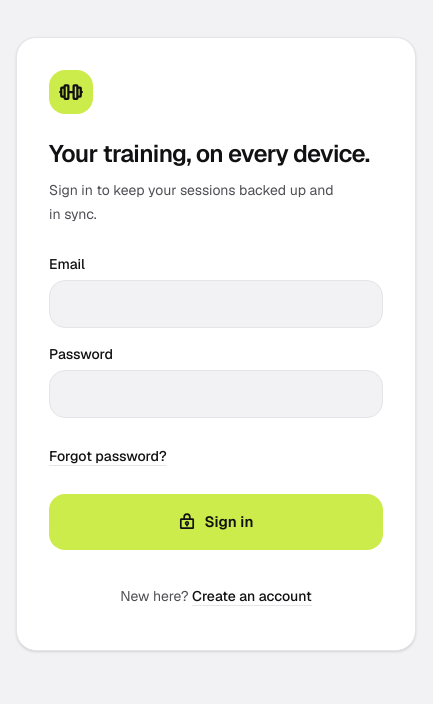
Test case: AuthScreen signup confirmations › prevents two submissions while the first request is still running
This screenshot has width=433, height=704.
Click the button "Create an account" at (252, 596), box [192,574,312,618]
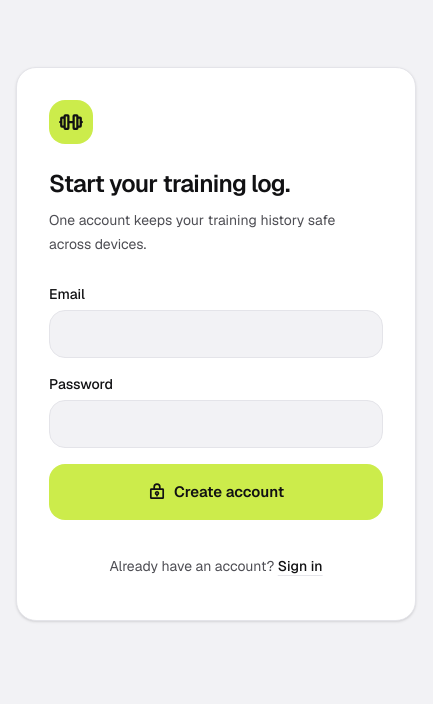
Type "athlete@example.com" into the field labelled "Email" at (216, 334), box [49,310,383,358]
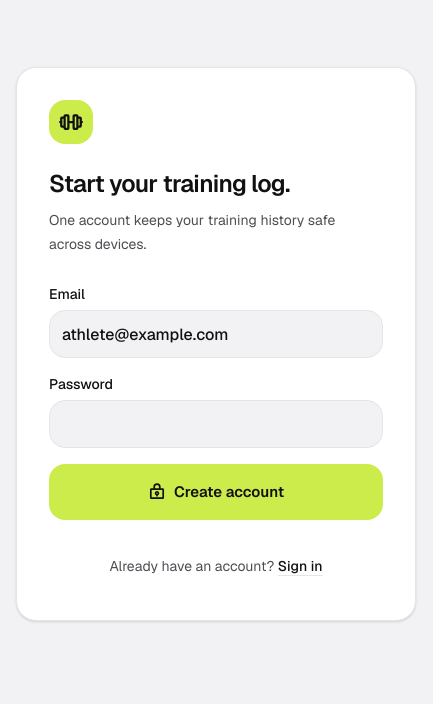
Type "strong-password" into the password field labelled "Password" at (216, 424), box [49,400,383,448]
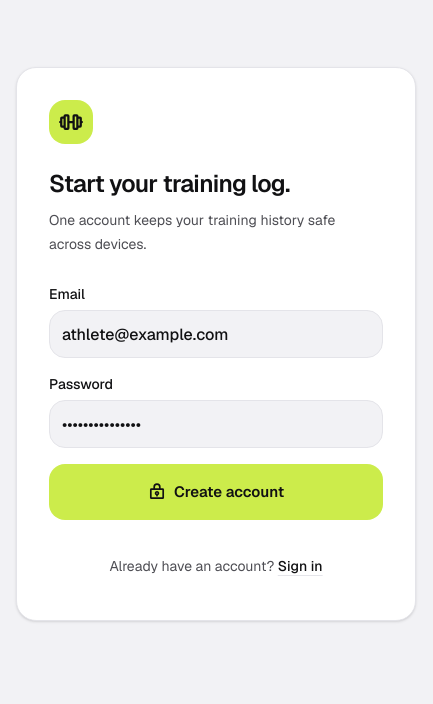
Submit the form "Create account", box [49,284,383,520]
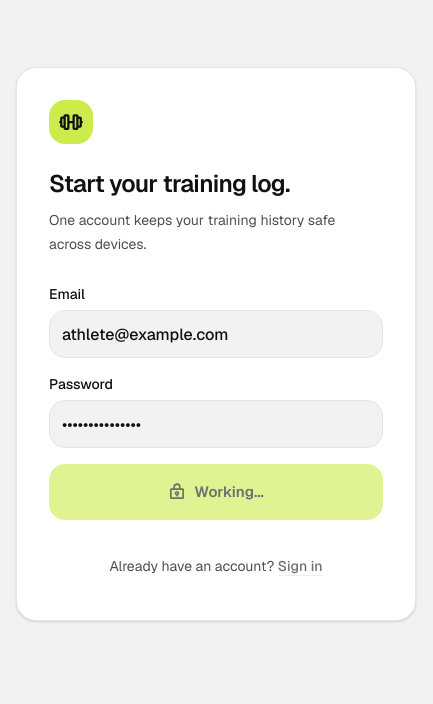
Submit the form named "Create account", box [49,284,383,520]
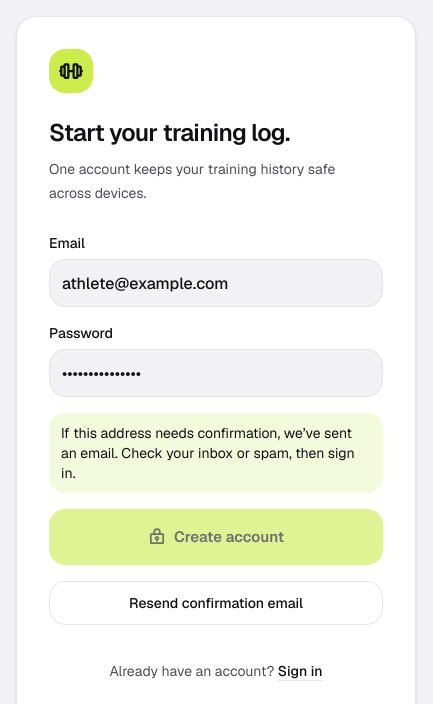
Expected: the text "If this address needs confirmation" is shown, [61,424,355,482]
